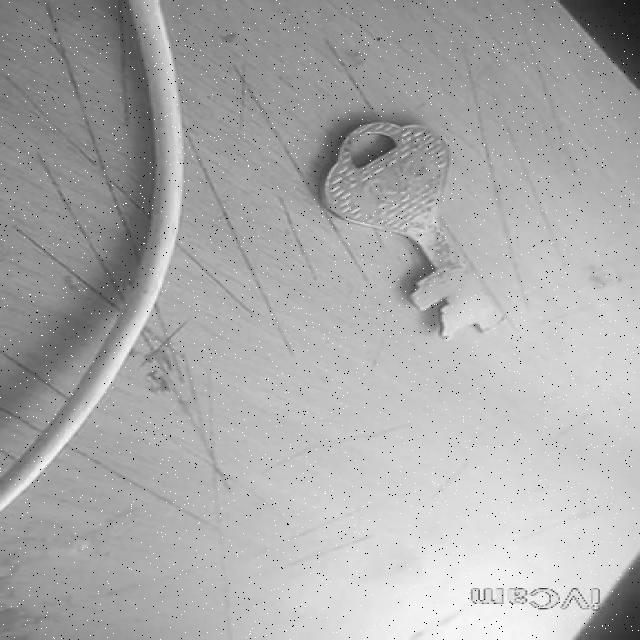key: (322, 121, 505, 339)
